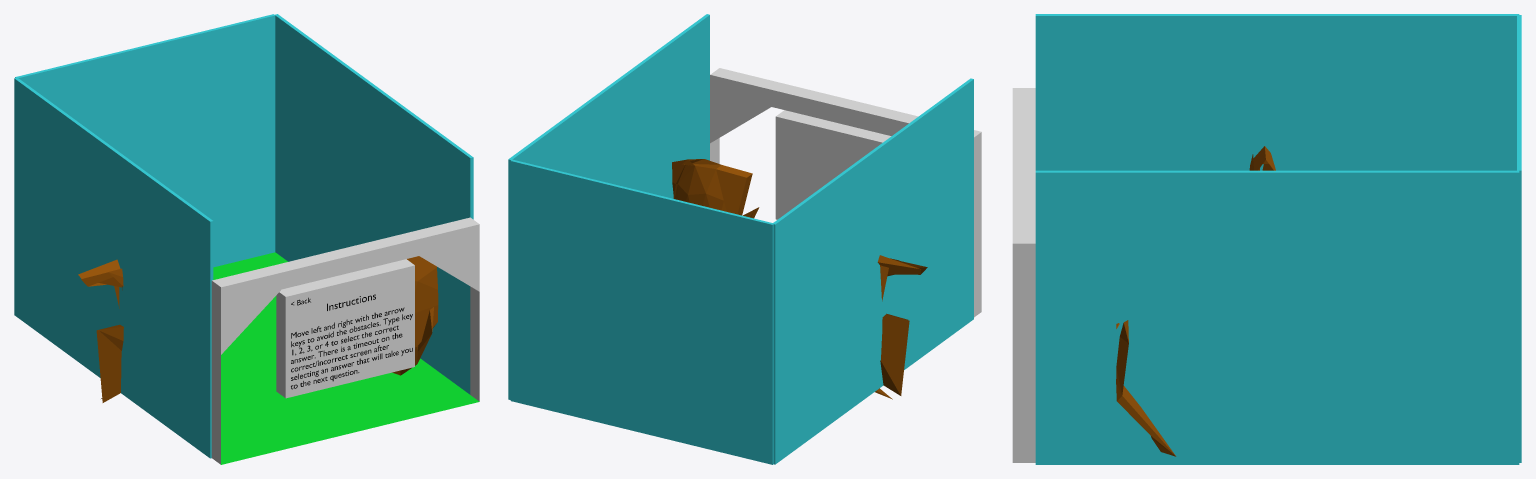
Rendered from game_instructions.fbx.
3 renders of one model, left to right at view 1: azimuth 30°, elevation 25°; view 2: azimuth 150°, elevation 25°; view 3: azimuth 270°, elevation 25°, orthographic. The views are drawn at different scales.
Visible parts, largest first — view 1: Left, Right, Background, Floor, Paused Pane, Title_Pane, Triangle_Left, Triangle_Right, Obstacle_left, Instructions Text, Obstacle_right, Wall_Left (+1 smaller); view 2: Background, Left, Right, Paused Pane, Title_Pane, Triangle_Right, Obstacle_right, Obstacle_left, Wall_Left, Triangle_Left; view 3: Right, Left, Wall_Right, Triangle_Right, Title_Pane, Background, Obstacle_right, Triangle_Left.
Part boxes in pixels (box(x1,y1,x2,y2)): Left: box(14, 77, 213, 458); Right: box(275, 14, 473, 394); Background: box(15, 14, 275, 267); Floor: box(213, 252, 479, 464); Paused Pane: box(276, 259, 414, 398); Title_Pane: box(215, 218, 479, 303); Triangle_Left: box(211, 261, 301, 354); Triangle_Right: box(390, 217, 479, 291); Obstacle_left: box(78, 259, 123, 402); Instructions Text: box(291, 307, 412, 389); Obstacle_right: box(392, 256, 438, 375); Wall_Left: box(211, 348, 220, 464); Background: box(510, 159, 773, 464); Left: box(773, 78, 973, 464); Right: box(508, 14, 709, 399); Paused Pane: box(775, 110, 891, 219); Title_Pane: box(710, 68, 981, 137); Triangle_Right: box(710, 68, 800, 143); Obstacle_right: box(672, 159, 759, 218); Obstacle_left: box(875, 255, 927, 399); Wall_Left: box(974, 201, 981, 317); Triangle_Left: box(890, 112, 981, 205); Right: box(1035, 170, 1519, 464); Left: box(1035, 14, 1519, 170); Wall_Right: box(1012, 327, 1035, 462); Triangle_Right: box(1012, 195, 1035, 327); Title_Pane: box(1012, 88, 1035, 264); Background: box(1517, 15, 1521, 462); Obstacle_right: box(1116, 320, 1176, 456); Triangle_Left: box(1012, 88, 1035, 136).
Bounding box in the file's own units: 2022 × 1437 × 2220.
